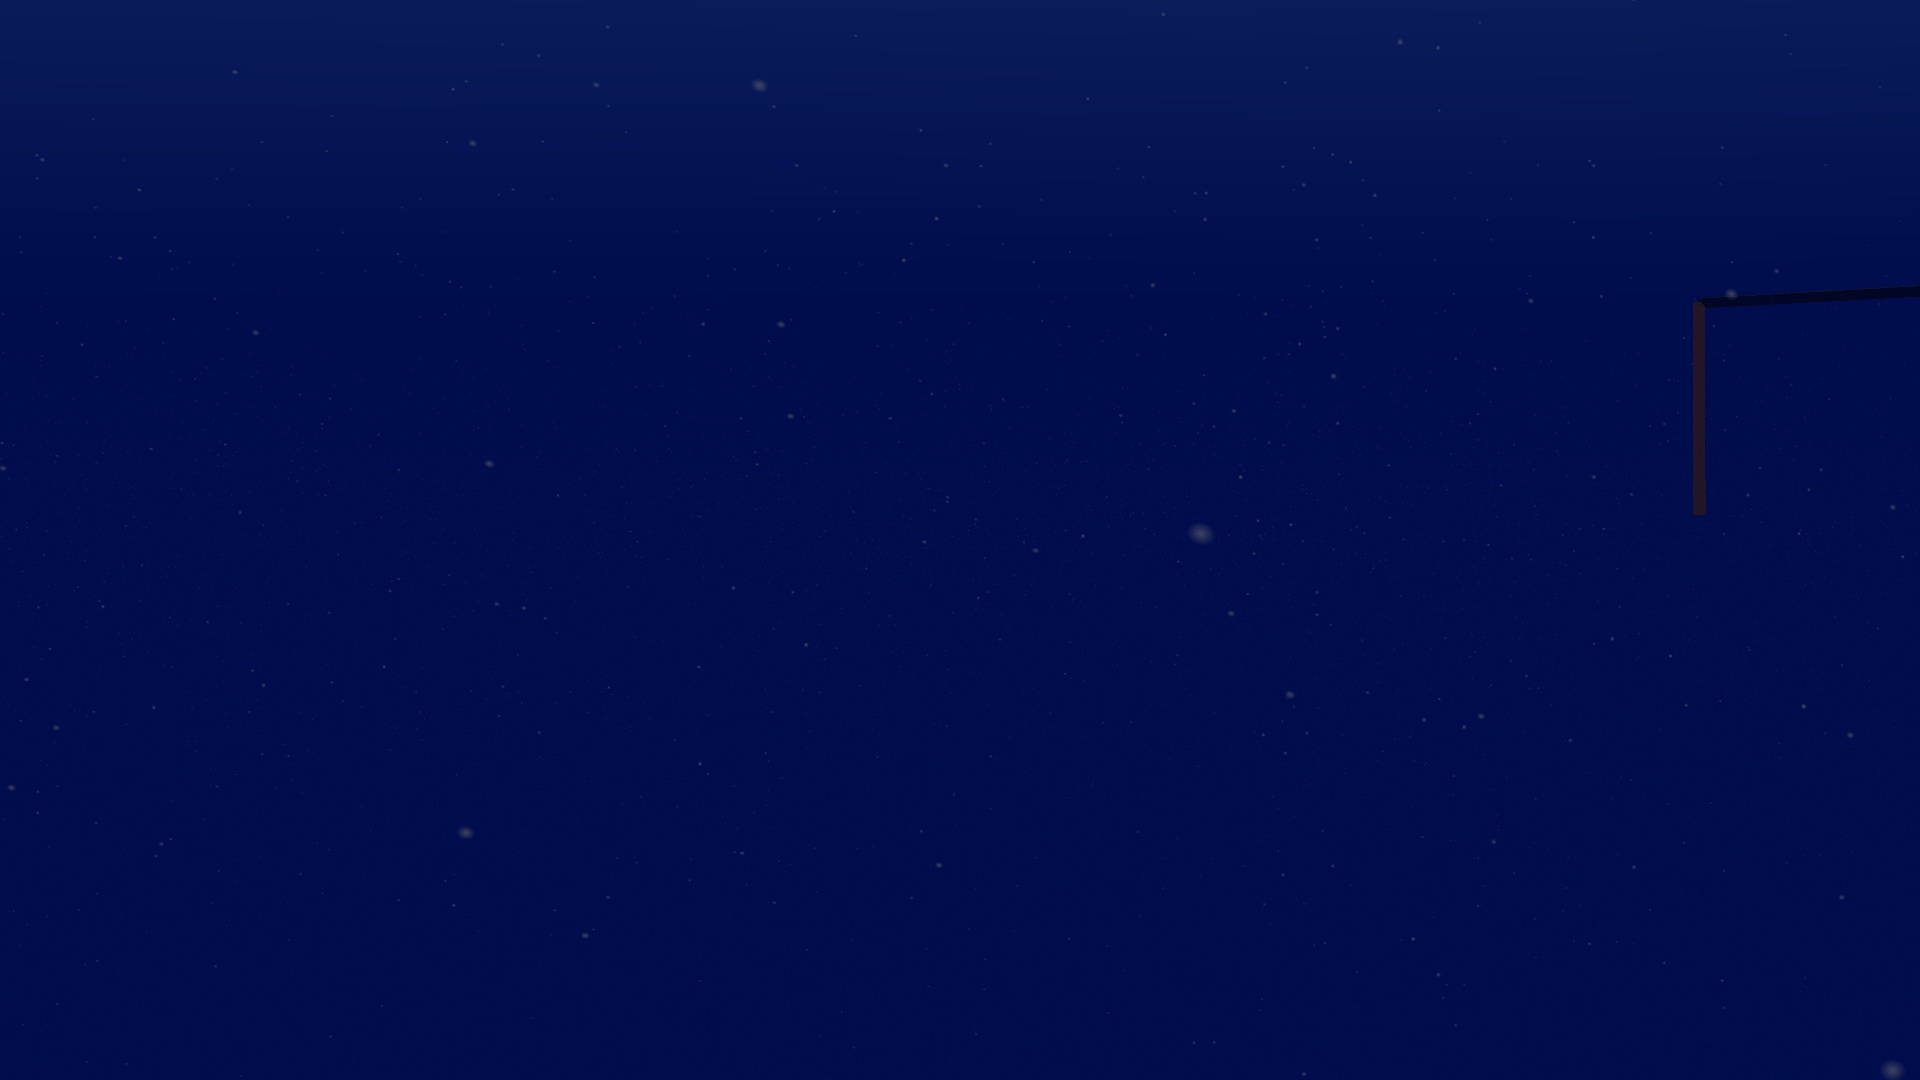Gate: (1688, 284, 1920, 522)
